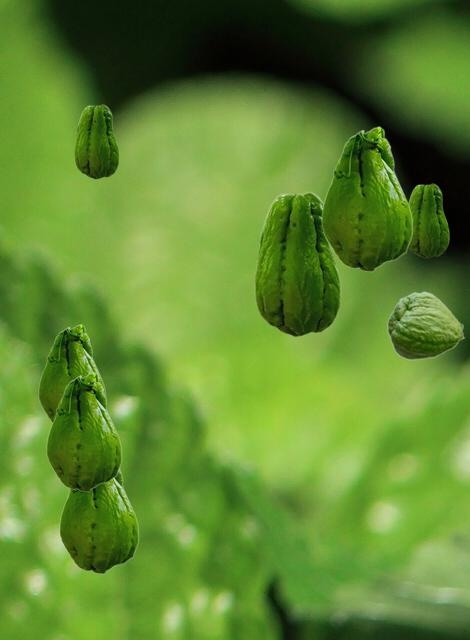sayote: (321, 126, 412, 271), (254, 191, 340, 336), (46, 372, 121, 491), (59, 469, 138, 573), (38, 324, 105, 423), (387, 291, 464, 359), (74, 104, 118, 178), (408, 183, 448, 257)
